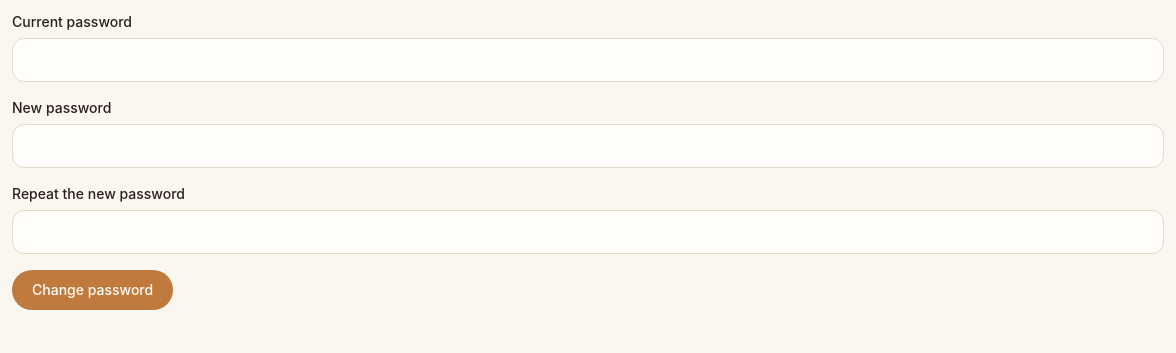
Test: ChangePasswordForm › flags a confirmation mismatch before any request
The width and height of the screenshot is (1176, 353).
Type "old-password" into the password field labelled "Current password".
click(588, 60); type("old-password")  # box [12,38,1164,82]
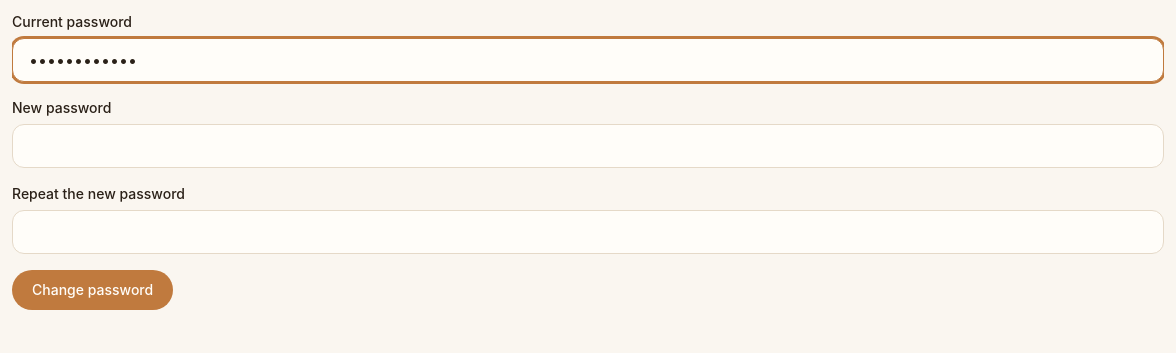
Type "new-password-123" into the password field labelled "New password".
click(588, 146); type("new-password-123")  # box [12,124,1164,168]
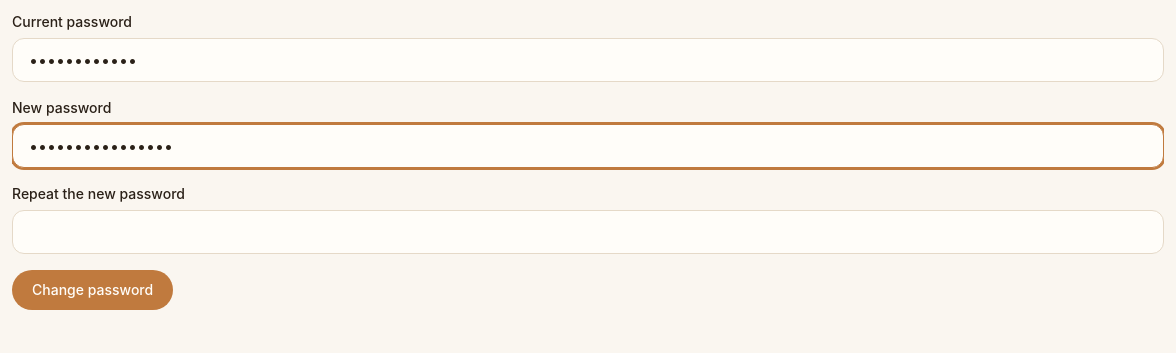
Type "something-else" into the password field labelled "Repeat the new password".
click(588, 232); type("something-else")  # box [12,210,1164,254]
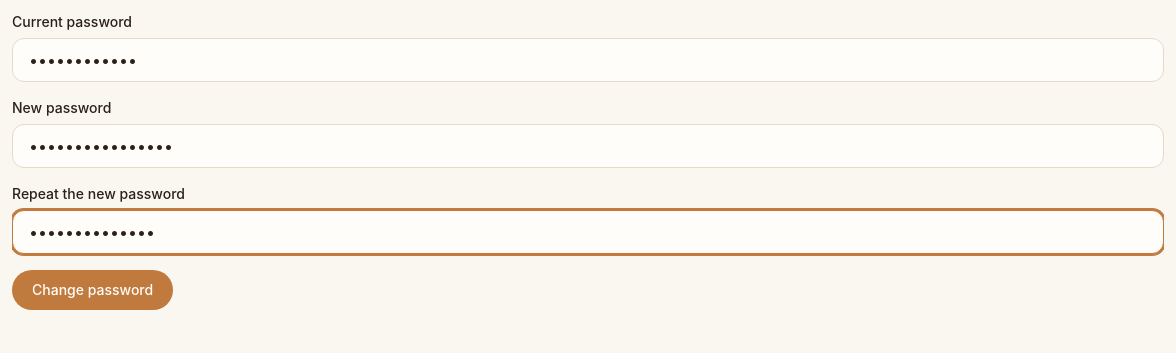
Click the button "Change password".
click(93, 290)  # box [12,270,173,310]
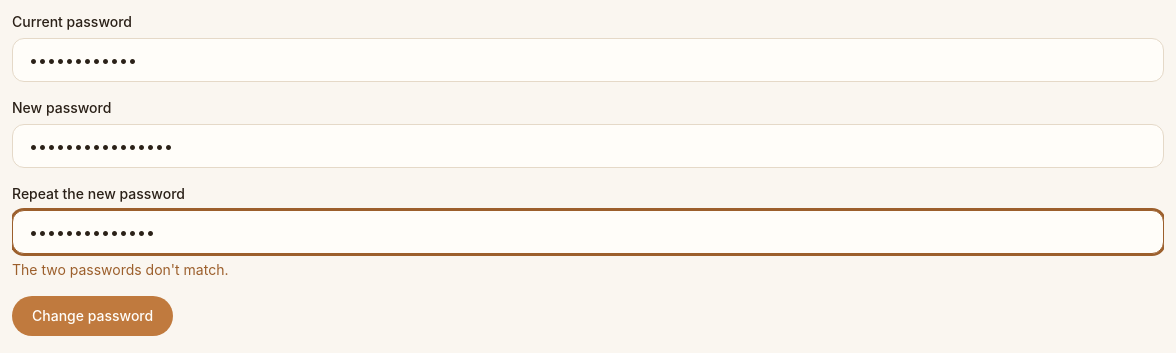
Expected: the message reads "The two passwords don't match.", [12,261,228,278]
